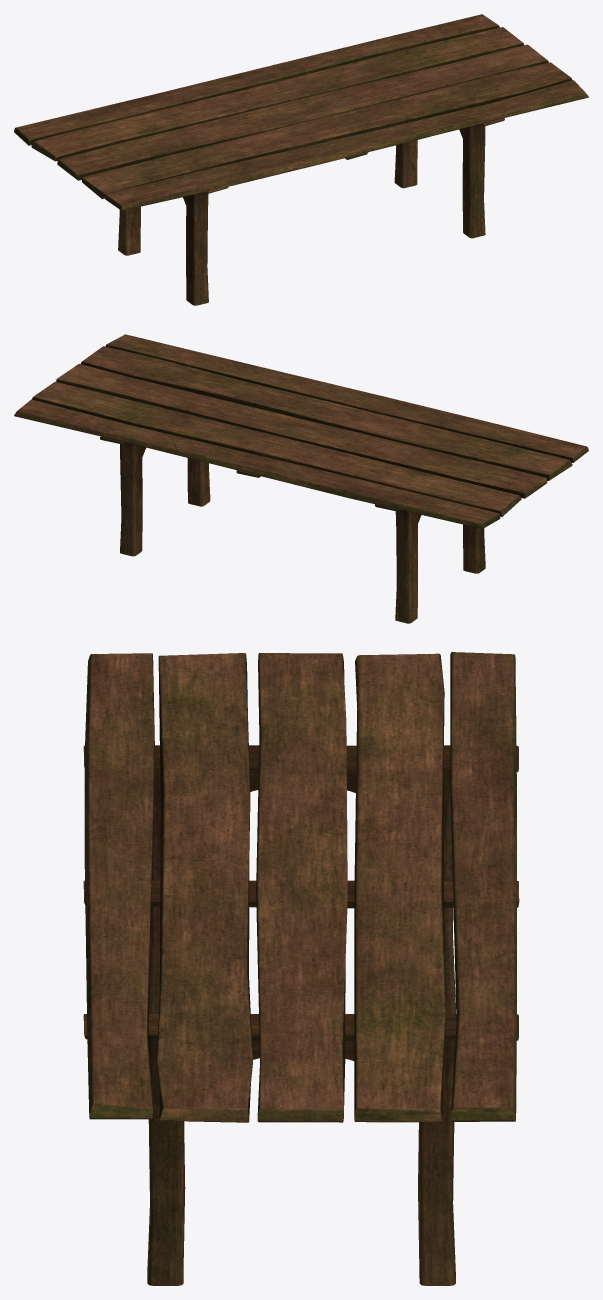
The model's file is wooden_long-table.glb.
3 views of the same model, one above another, from view 1: azimuth 30°, elevation 25°; view 2: azimuth 150°, elevation 25°; view 3: azimuth 270°, elevation 25° (orthographic). The views are drawn at different scales.
Visible parts, largest first — view 1: Plank1, Plank2, Plank3, Plank, Plank4, Leg3, Leg2, Leg1, Leg; view 2: Plank1, Plank3, Plank2, Plank4, Plank, Leg, Leg1, Leg2, Leg3; view 3: Plank1, Plank3, Plank2, Plank, Plank4, Leg, Leg3, Leg2, Leg1, Support1, Support, Support2.
Boxes of the visible parts, x1,y1,x2,y2 form: Plank1: (81, 62, 572, 199); Plank2: (57, 44, 548, 180); Plank3: (31, 27, 524, 161); Plank: (105, 80, 588, 210); Plank4: (14, 14, 499, 145); Leg3: (462, 124, 485, 238); Leg2: (186, 192, 208, 305); Leg1: (118, 206, 140, 255); Leg: (394, 140, 417, 188); Plank1: (81, 346, 572, 480); Plank3: (32, 381, 521, 516); Plank2: (56, 363, 547, 498); Plank4: (14, 399, 500, 528); Plank: (105, 334, 588, 462); Leg: (120, 442, 142, 556); Leg1: (395, 510, 417, 623); Leg2: (463, 524, 485, 573); Leg3: (187, 458, 210, 506); Plank1: (156, 653, 252, 1122); Plank3: (354, 653, 445, 1122); Plank2: (256, 653, 347, 1122); Plank: (84, 653, 154, 1119); Plank4: (450, 652, 516, 1121); Leg: (418, 1040, 455, 1285); Leg3: (147, 1039, 185, 1285); Leg2: (149, 771, 160, 1013); Leg1: (443, 772, 455, 1013); Support1: (83, 1014, 518, 1041); Support: (83, 880, 519, 908); Support2: (83, 745, 518, 772).
Bounding box in the file's own units: 3 × 0.8067 × 1.2.
1 material, 1 textured.
